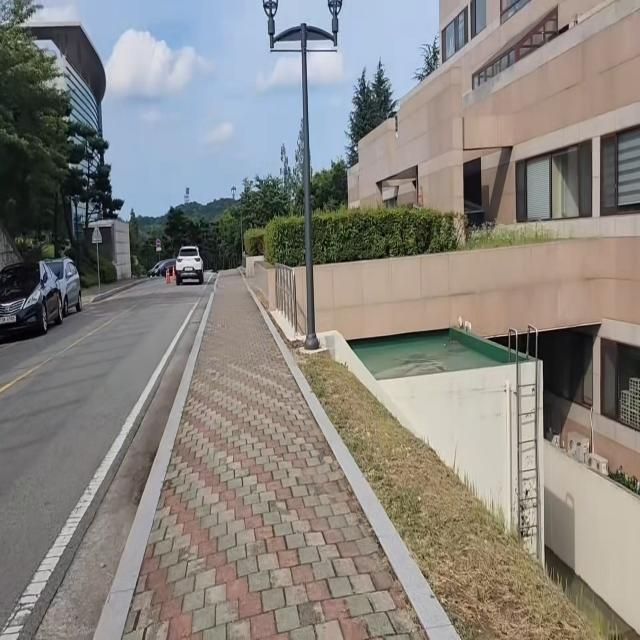obstacle: (259, 0, 349, 350), (0, 256, 88, 345), (169, 239, 208, 289)
road: (0, 281, 212, 640)
sidewalk: (97, 267, 461, 640)
